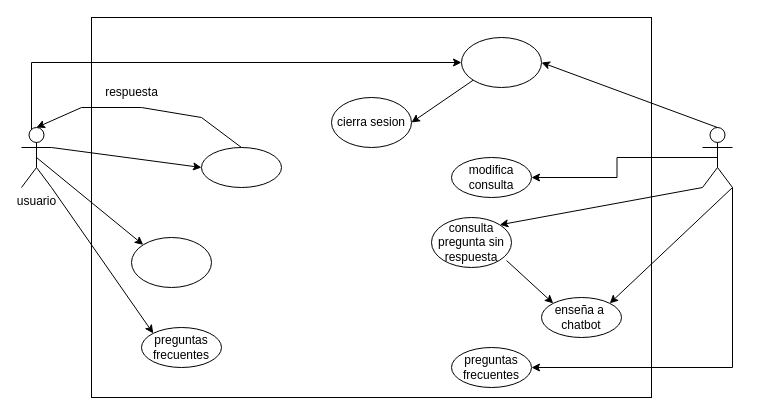
The diagram is 772 pixels wide and 415 high, and some of its shapes have lost their labels. Each missing label, with the centre of its shape:
Administrador: pixel 717 157
consulta mapa de la escuela: pixel 171 262
Hace una consulta: pixel 241 167
inicia sesion: pixel 501 62
